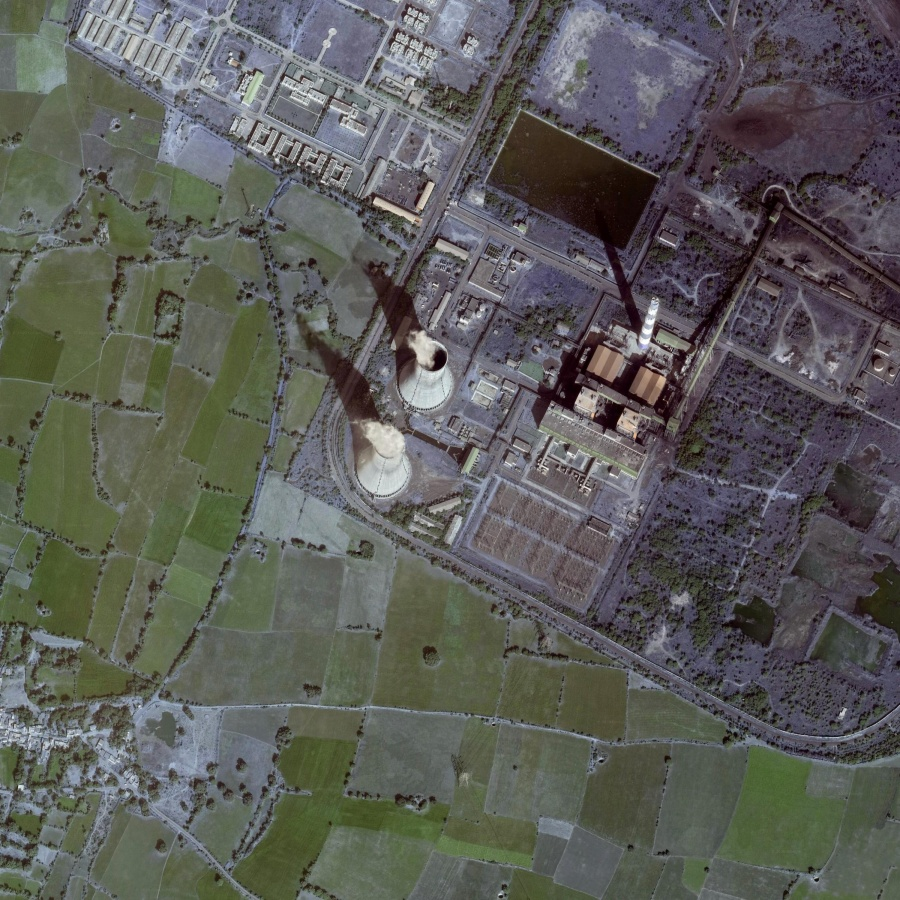PowerPlant: (322, 94, 759, 552)
